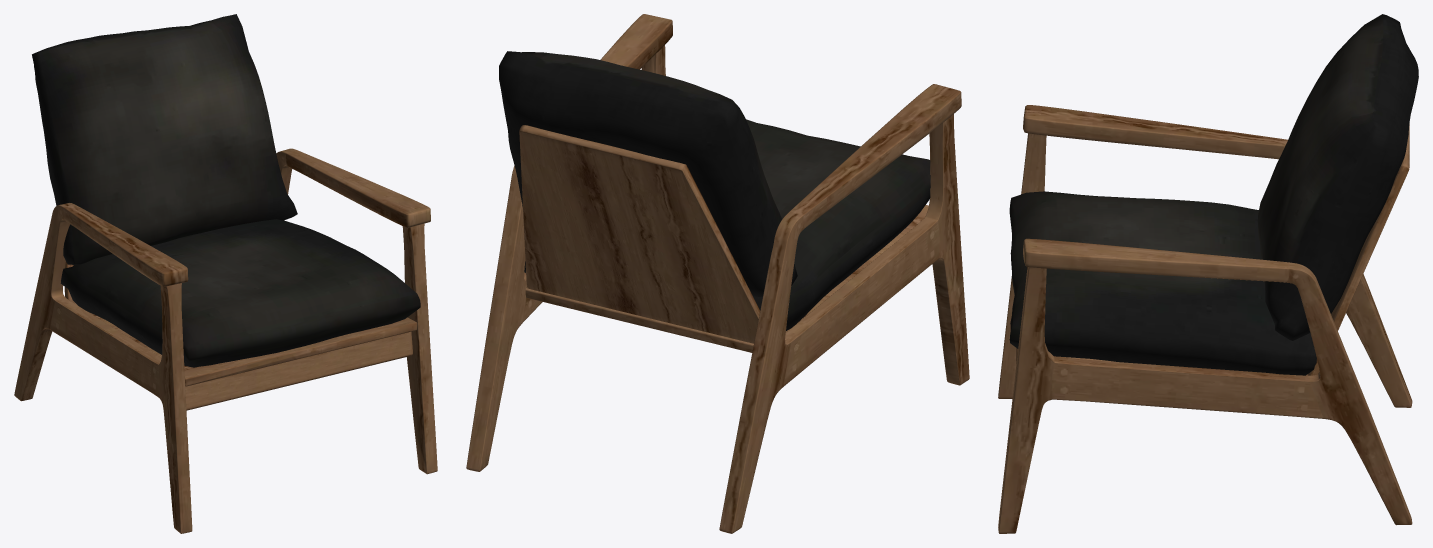
Rendered from modern_arm_chair_01.glb.
The picture shows the model from 3 angles, left to right: view 1: azimuth 30°, elevation 25°; view 2: azimuth 150°, elevation 25°; view 3: azimuth 270°, elevation 25°; orthographic projection. The views are drawn at different scales.
Parts seen in each view (by area): view 1: modern_arm_chair_01; view 2: modern_arm_chair_01; view 3: modern_arm_chair_01.
Part boxes in pixels (bbox=[...]): modern_arm_chair_01: bbox=[14, 14, 437, 533]; modern_arm_chair_01: bbox=[466, 14, 969, 533]; modern_arm_chair_01: bbox=[998, 14, 1418, 533].
Bounding box in the file's own units: 0.8203 × 1.02 × 0.9866.
Materials: 2 (2 with a texture image).
